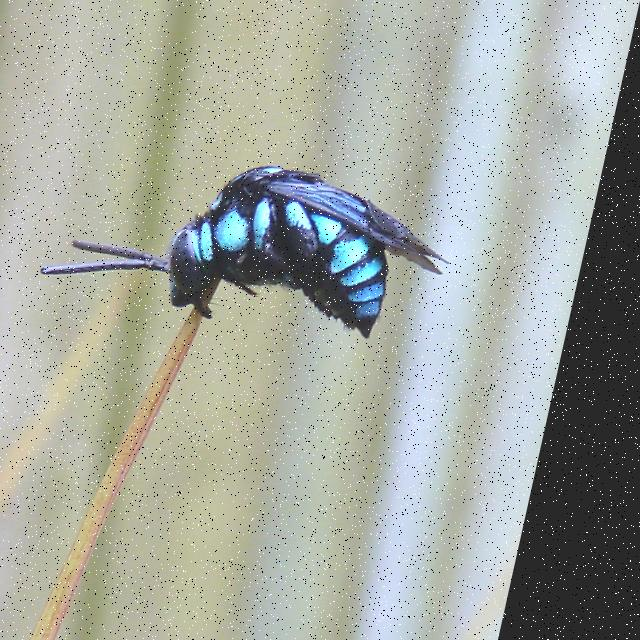Thyreus: (35, 159, 486, 350)
